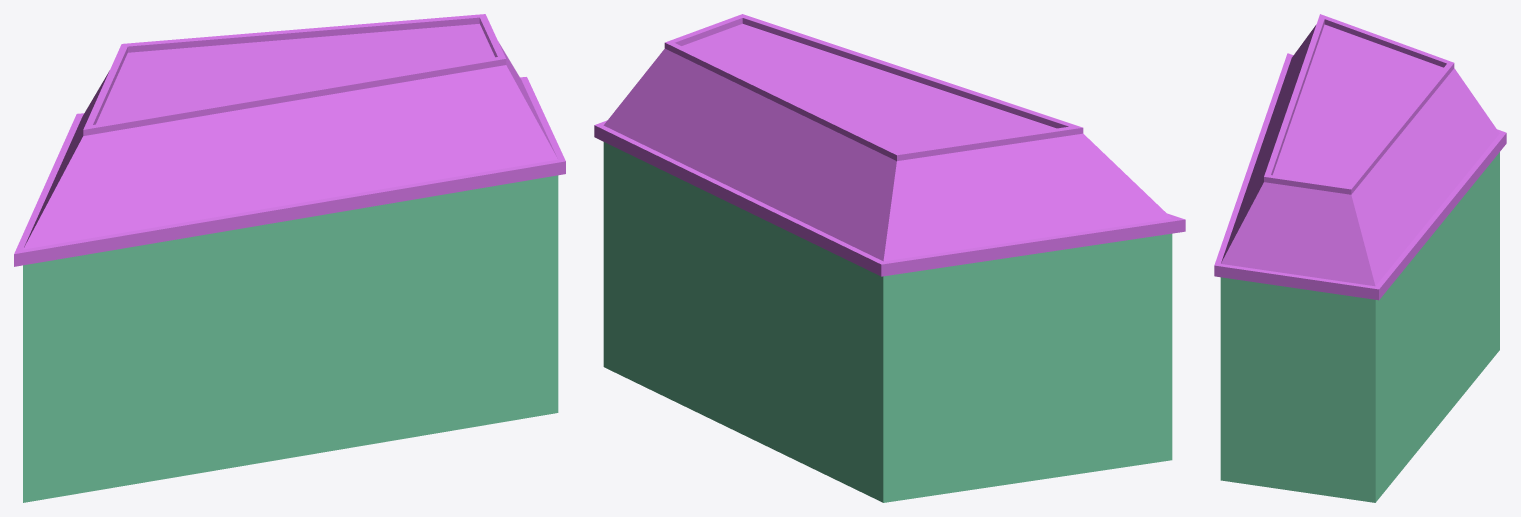
File: Batiment15.fbx
3 renders of one model, left to right at view 1: azimuth 30°, elevation 25°; view 2: azimuth 150°, elevation 25°; view 3: azimuth 270°, elevation 25°, orthographic. The views are drawn at different scales.
Parts seen in each view (by area): view 1: Batiment15; view 2: Batiment15; view 3: Batiment15.
Boxes of the visible parts, x1,y1,x2,y2 form: Batiment15: (14,14,565,502); Batiment15: (594,14,1185,502); Batiment15: (1214,14,1506,502).
Bounding box in the file's own units: 57.23 × 33.03 × 29.91.
